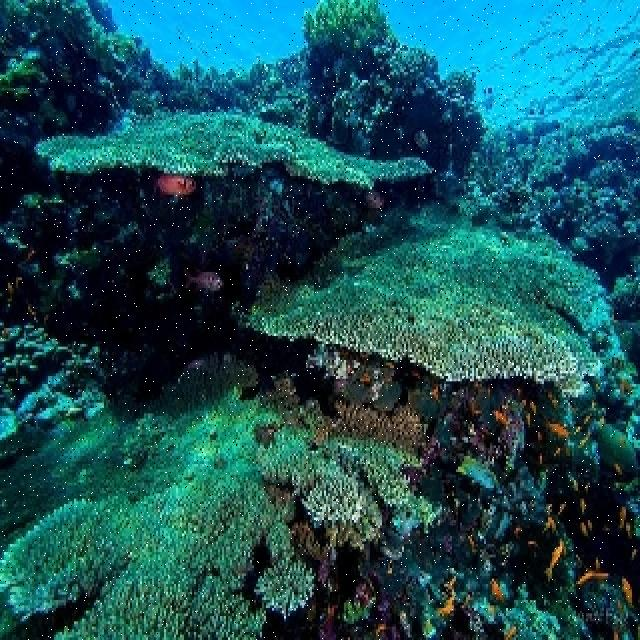fish: (160, 175, 196, 196), (187, 270, 223, 290), (366, 191, 384, 208), (416, 132, 429, 148)
reefs: (0, 350, 442, 637), (251, 208, 622, 397), (35, 110, 433, 187), (335, 396, 422, 448)
